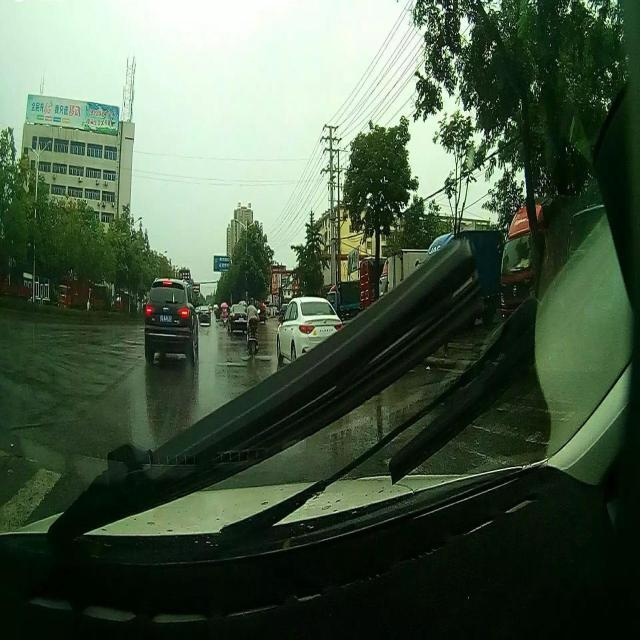car: (146, 276, 198, 360), (278, 300, 342, 363), (226, 302, 247, 333), (198, 306, 212, 322)
